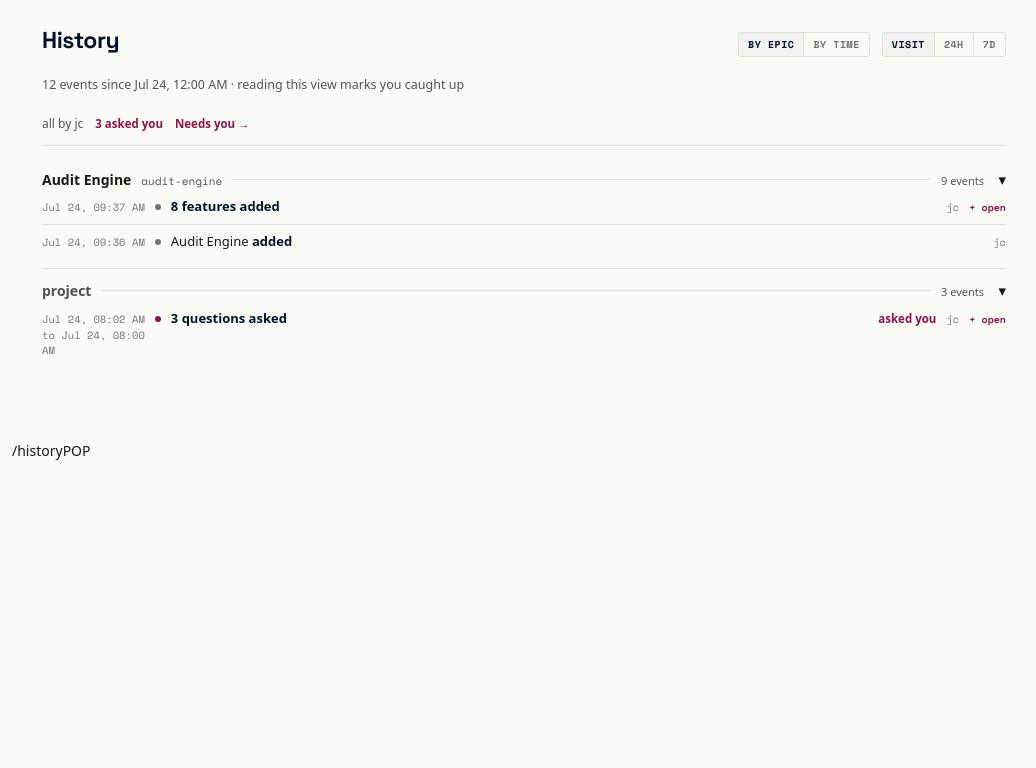
Test: History view: hoisting is gone › renders an ask exactly once, in the group and the timeline where it happened
Expected: the text "12 events" is shown, 42,76 -> 464,92
Expected: the number of elements with class "recap-group" is 2, 42,158 -> 1006,269; 42,269 -> 1006,376
Note: Once in the DOM, not twice: the statement lives behind the burst row.
Click the heading that starts with "Jul 24, 08:02 AM to Jul 24, 08:00 AM". click: (93, 319)
box: 42,302 -> 1006,366
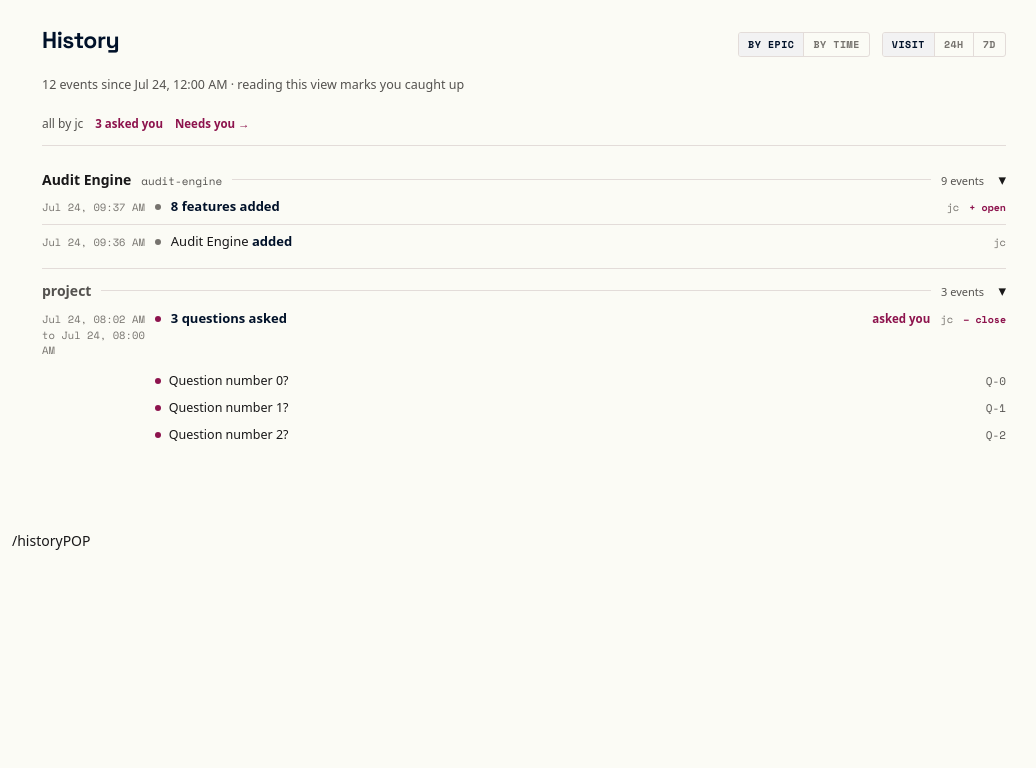
Now the number of links "Question number 0?" is 1, box 169,372 -> 288,389
